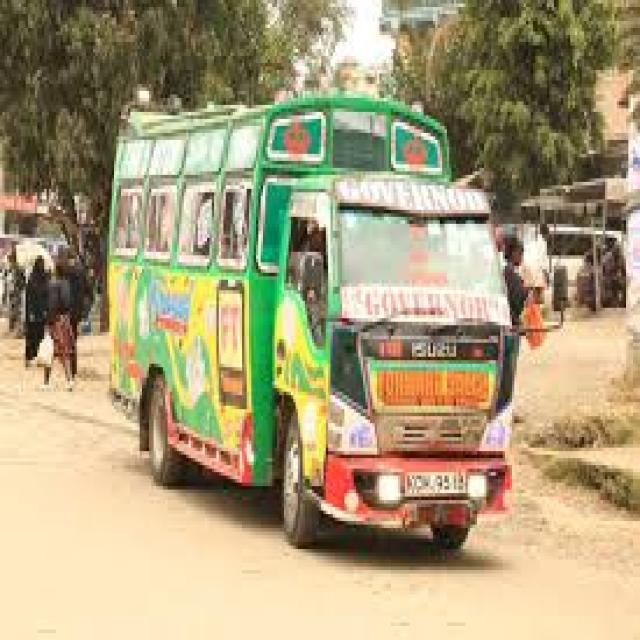bus: (95, 46, 584, 600)
